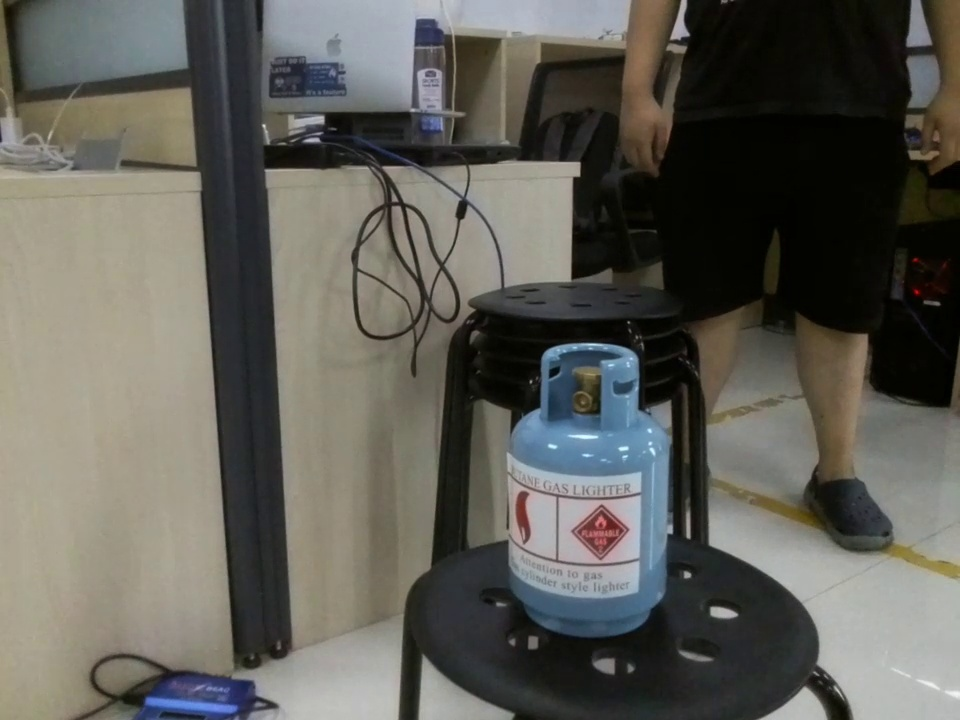gas tank: (503, 336, 689, 641)
